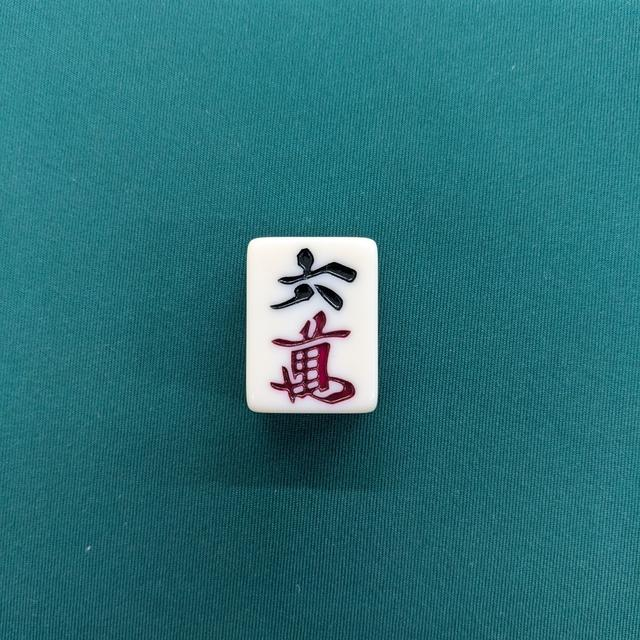6m: (245, 236, 378, 413)
